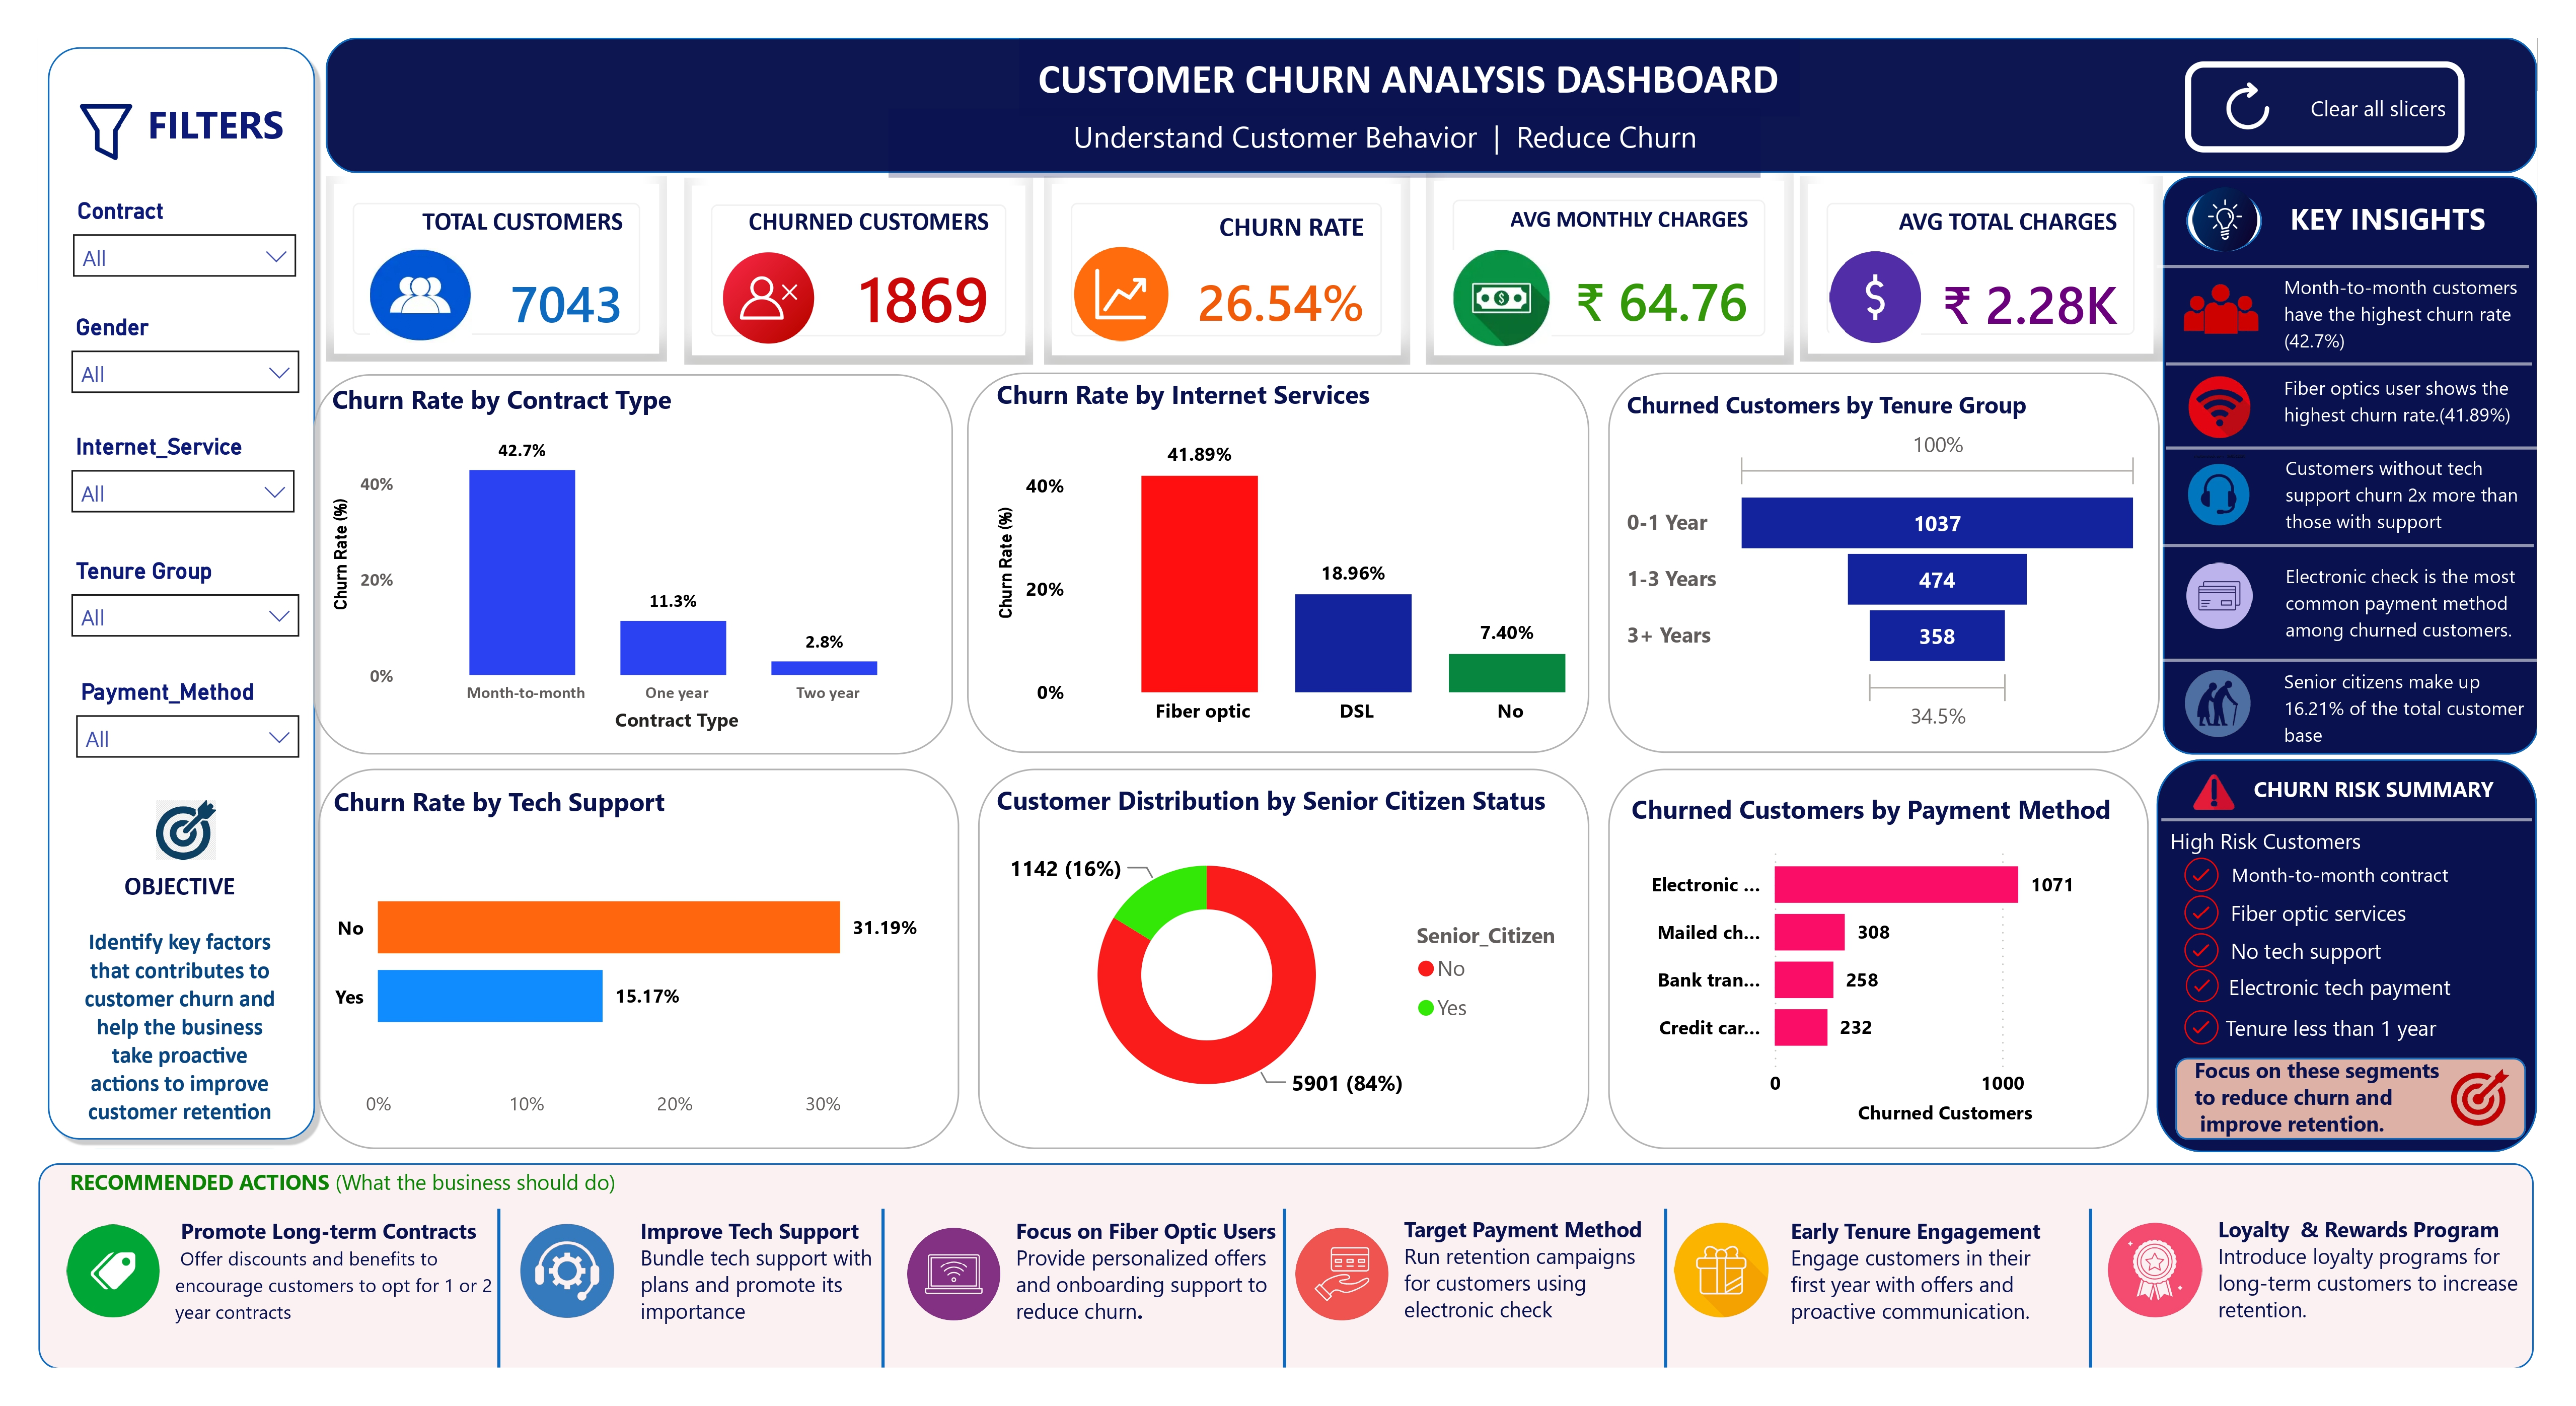

The page's visual inventory and layout, read from the dashboard file:
{"tool":"powerbi","page":{"name":"Page 1","canvas":[1590,846],"ordinal":0},"visuals":[{"type":"shape","box":[182.7,0,1407.6,86.2],"z":0},{"type":"cardVisual","title":"CARD TC","fields":{"Data":["customer_churn.TOTAL CUSTOMERS"]},"box":[182.7,87.7,217.8,118.4],"z":1000},{"type":"shape","box":[20.6,483,144.1,223.7],"z":2000},{"type":"image","title":"IMAGE TC","box":[209,134.5,68.7,59.9],"z":3000},{"type":"shape","box":[0,0,182,707],"z":4000},{"type":"cardVisual","title":"CARD CC","fields":{"Data":["customer_churn.Churned Customers"]},"box":[410.7,89.2,222.2,118.4],"z":5000},{"type":"image","title":"CC IMAGE","box":[429.7,134.5,68.7,62.9],"z":6000},{"type":"cardVisual","title":"CHURN RATE CARD","fields":{"Data":["customer_churn.Churn Rate"]},"box":[640.2,87.7,232.4,119.9],"z":7000},{"type":"image","title":"CHURN RATE IMAGE ","box":[653.4,133,70.2,59.9],"z":8000},{"type":"textbox","box":[17.8,32.9,144.1,53.5],"z":9000},{"type":"cardVisual","title":"AMC CARD","fields":{"Data":["customer_churn.Avg Monthly Charges"]},"box":[882.8,86.2,233.9,121.3],"z":10000},{"type":"image","title":"Amc IMAGE","box":[900.4,133,62.9,65.8],"z":11000},{"type":"cardVisual","title":"ATC CARD","fields":{"Data":["customer_churn.AVG Total Charges"]},"box":[1121.1,87.7,230.9,118.4],"z":12000},{"type":"textbox","box":[19.4,525,141.7,185],"z":13000},{"type":"image","title":"ATC IMAGE","box":[1137.2,135.9,64.3,58.5],"z":14000},{"type":"image","title":"IMAGE OBJECTIVE","box":[74.6,475.8,38.8,56.7],"z":15000},{"type":"image","title":"FILTER IMAGE","box":[20,31.4,45.6,55.6],"z":16000},{"type":"textbox","box":[624.1,0,497,49.7],"z":17000},{"type":"textbox","box":[540.8,45.3,555.4,43.8],"z":18000},{"type":"slicer","fields":{"Values":["customer_churn.Tenure_Group"]},"box":[15.1,325.2,156.4,70],"z":19000},{"type":"slicer","fields":{"Values":["customer_churn.Payment_Method"]},"box":[17.8,402.1,153.7,63.1],"z":20000},{"type":"slicer","fields":{"Values":["customer_churn.Contract"]},"box":[16.5,96.1,153.7,75.5],"z":21000},{"type":"slicer","fields":{"Values":["customer_churn.Gender"]},"box":[15.1,170.2,156.4,75.5],"z":22000},{"type":"slicer","fields":{"Values":["customer_churn.Internet_Service"]},"box":[15.1,245.6,153.7,65.9],"z":23000},{"type":"clusteredColumnChart","title":"Churn Rate by Contract Type","fields":{"Y":["customer_churn.CHURN RATE"],"Category":["customer_churn.Contract"]},"box":[183.2,214.3,394,231.6],"z":24000},{"type":"columnChart","title":"Churn Rate by Internet Services","fields":{"Y":["customer_churn.CHURN RATE"],"Category":["customer_churn.Internet_Service"]},"box":[604.9,216,414.8,229.9],"z":25000},{"type":"funnel","title":"Churned Customers by Tenure Group","fields":{"Category":["customer_churn.Tenure Group"],"Y":["customer_churn.CHURNED CUSTOMERS"]},"box":[1005.8,216,337,229.9],"z":26000},{"type":"clusteredBarChart","title":"Churned Customers by Payment Method","fields":{"Category":["customer_churn.Payment_Method"],"Y":["customer_churn.CHURNED CUSTOMERS"]},"box":[1009.3,480.5,331.8,216],"z":27000},{"type":"clusteredBarChart","title":"Churn Rate by Tech Support","fields":{"Y":["customer_churn.CHURN RATE"],"Category":["customer_churn.Tech_Support"]},"box":[183.2,475.3,394,221.2],"z":28000},{"type":"donutChart","title":"Customer Distribution by Senior Citizen Status","fields":{"Y":["customer_churn.TOTAL CUSTOMERS"],"Category":["customer_churn.Senior_Citizen"]},"box":[604.9,473.5,381.9,222.9],"z":29000},{"type":"shape","title":"ks full rect shape","box":[1352,87.7,238.2,368],"z":30000,"group":"g2"},{"type":"shape","title":"RA shape","box":[0,715.5,1588.3,131.3],"z":30000},{"type":"textbox","title":"ks shape","box":[1363.7,96.5,214.9,51.2],"z":31000,"group":"g2"},{"type":"group","id":"g1","title":"Group 1","box":[1348.4,459.4,241.6,250.6],"z":31000},{"type":"group","id":"g2","title":"Group 2","box":[1347.6,87.7,242.6,375.6],"z":32000},{"type":"shape","title":"idea shape","box":[1366.6,96.5,48.2,39.5],"z":32000,"group":"g2"},{"type":"image","title":"idea image","box":[1362.2,95,57,40.9],"z":33000,"group":"g2"},{"type":"textbox","box":[14.9,714.5,372.9,35.8],"z":33000},{"type":"shape","title":"ks line 1","box":[1347.6,127.2,236.8,36.5],"z":34000,"group":"g2"},{"type":"textbox","box":[42.4,745.4,261.6,90.6],"z":34000},{"type":"textbox","title":"mtm text box ks","box":[1423.6,143.2,166.6,64.3],"z":35000,"group":"g2"},{"type":"textbox","box":[298.2,745.4,242.6,90.6],"z":35000},{"type":"shape","title":"ks line 2","box":[1353.2,153.8,233.3,107.2],"z":36000,"group":"g2"},{"type":"textbox","box":[577.4,745.4,222.2,86.2],"z":36000},{"type":"textbox","title":"wifi text box","box":[1423.6,207.6,166.6,54.1],"z":37000,"group":"g2"},{"type":"textbox","box":[1341.8,744,248.5,87.7],"z":37000},{"type":"shape","title":"ks line 3","box":[1353.4,242.6,236.8,36.5],"z":38000,"group":"g2"},{"type":"textbox","box":[824.4,744,216.3,86.2],"z":38000},{"type":"textbox","title":"earphone text box","box":[1425.1,258.7,165.2,62.9],"z":39000,"group":"g2"},{"type":"textbox","box":[1069.9,745.4,220.7,89.2],"z":39000},{"type":"shape","title":"ks line 4","box":[1350.5,304,236.8,38],"z":40000,"group":"g2"},{"type":"shape","box":[277.7,745.4,30.7,100.9],"z":40000},{"type":"textbox","title":"electronic check text box","box":[1425.1,327.4,165.2,64.3],"z":41000,"group":"g2"},{"type":"shape","box":[521.8,745.4,30.7,100.9],"z":41000},{"type":"shape","title":"ks line 5","box":[1352,377.1,238.2,38],"z":42000,"group":"g2"},{"type":"shape","box":[777.6,745.4,30.7,100.9],"z":42000},{"type":"textbox","title":"senior citizen text box","box":[1423.6,394.6,163.7,68.7],"z":43000,"group":"g2"},{"type":"shape","box":[1020.2,745.4,30.7,100.9],"z":43000},{"type":"shape","title":"crs shape","box":[1348.4,459.4,242.3,250],"z":44000,"group":"g1"},{"type":"shape","box":[1290.6,745.4,30.7,100.9],"z":44000},{"type":"image","title":"Danger sign","box":[1355.7,463.6,58.4,33.7],"z":45000,"group":"g1"},{"type":"image","box":[17.5,754.2,59.9,59.9],"z":45000},{"type":"shape","title":"CRS LINE","box":[1351.3,480.5,236.5,35.1],"z":46000,"group":"g1"},{"type":"image","box":[292.3,745.4,89.2,78.9],"z":46000},{"type":"textbox","title":"crs text box","box":[1405.8,464.7,170.9,33.2],"z":47000,"group":"g1"},{"type":"image","box":[552.5,755.7,59.9,59.9],"z":47000},{"type":"image","title":"earphone image","box":[1365.1,267.5,43.8,43.8],"z":48000,"group":"g2"},{"type":"image","box":[799.5,755.7,59.9,59.9],"z":48000},{"type":"image","title":"wifi image","box":[1352,206.1,71.6,61.4],"z":49000,"group":"g2"},{"type":"image","box":[1040.7,754.2,59.9,59.9],"z":49000},{"type":"image","title":"mtm ks image","box":[1363.7,149.1,49.7,45.3],"z":50000,"group":"g2"},{"type":"image","box":[1316.9,754.2,59.9,59.9],"z":50000},{"type":"shape","box":[174.6,214.3,407.9,242],"z":51000},{"type":"image","title":"electronic check image","box":[1366.6,333.3,42.4,42.4],"z":51000,"group":"g2"},{"type":"shape","box":[591.1,212.6,395.8,242],"z":52000},{"type":"image","title":"senior citizen image","box":[1365.1,402,42.4,42.4],"z":52000,"group":"g2"},{"type":"shape","box":[998.9,212.6,350.8,242],"z":53000},{"type":"textbox","title":"HRC text box","box":[1348.4,497.3,148.9,30.9],"z":53000,"group":"g1"},{"type":"shape","box":[178,464.9,407.9,242],"z":54000},{"type":"textbox","title":"mtmc text box","box":[1358.6,518.4,223.3,28.1],"z":54000,"group":"g1"},{"type":"shape","box":[598,464.9,388.9,242],"z":55000},{"type":"image","title":"tick image 2","box":[1363,539.5,27.7,33.7],"z":55000,"group":"g1"},{"type":"shape","box":[998.9,464.9,343.9,242],"z":56000},{"type":"image","title":"tick image 1","box":[1363,515.6,27.7,33.7],"z":56000,"group":"g1"},{"type":"actionButton","box":[1366.3,14.9,177.5,58.2],"z":57000},{"type":"image","title":"tick image 3","box":[1363,563.3,27.7,33.7],"z":57000,"group":"g1"},{"type":"image","box":[1382.7,20.9,46.2,47.7],"z":58000},{"type":"textbox","title":"fos text box","box":[1390.7,543.7,127,29.5],"z":58000,"group":"g1"},{"type":"textbox","title":"nts text box","box":[1390.7,567.5,127,29.5],"z":59000,"group":"g1"},{"type":"image","title":"tick image 4","box":[1363,590,27.7,26.7],"z":60000,"group":"g1"},{"type":"textbox","title":"etp text box","box":[1389.3,590,159.1,29.5],"z":61000,"group":"g1"},{"type":"textbox","title":"tlt1y text box","box":[1387.8,616.7,166.4,29.5],"z":62000,"group":"g1"},{"type":"image","title":"tick image 5","box":[1363,616.7,27.7,26.7],"z":63000,"group":"g1"},{"type":"shape","title":"focus shape","box":[1360.1,649,223.3,52.8],"z":64000,"group":"g1"},{"type":"textbox","title":"focus text box ","box":[1367.4,643.4,208.7,63.2],"z":65000,"group":"g1"},{"type":"image","title":"focus image","box":[1529.4,654.6,49.6,40.7],"z":66000,"group":"g1"}]}

Visuals, with their boxes in screenshot pixels (x1, y1, x2, y2):
shape: select_region(362, 27, 2531, 160)
"CARD TC" cardVisual: select_region(362, 162, 698, 344)
shape: select_region(112, 771, 334, 1116)
"IMAGE TC" image: select_region(403, 234, 508, 326)
shape: select_region(81, 27, 361, 1117)
"CARD CC" cardVisual: select_region(713, 164, 1056, 347)
"CC IMAGE" image: select_region(743, 234, 849, 331)
"CHURN RATE CARD" cardVisual: select_region(1067, 162, 1425, 347)
"CHURN RATE IMAGE " image: select_region(1087, 232, 1196, 324)
textbox: select_region(108, 78, 330, 160)
"AMC CARD" cardVisual: select_region(1441, 160, 1801, 347)
"Amc IMAGE" image: select_region(1468, 232, 1565, 333)
"ATC CARD" cardVisual: select_region(1808, 162, 2164, 344)
textbox: select_region(110, 836, 329, 1121)
"ATC IMAGE" image: select_region(1833, 236, 1932, 326)
"IMAGE OBJECTIVE" image: select_region(195, 760, 255, 848)
"FILTER IMAGE" image: select_region(111, 75, 182, 161)
textbox: select_region(1042, 27, 1808, 103)
textbox: select_region(914, 97, 1770, 164)
slicer - customer_churn.Tenure_Group: select_region(104, 528, 345, 636)
slicer - customer_churn.Payment_Method: select_region(108, 647, 345, 744)
slicer - customer_churn.Contract: select_region(106, 175, 343, 292)
slicer - customer_churn.Gender: select_region(104, 289, 345, 405)
slicer - customer_churn.Internet_Service: select_region(104, 405, 341, 507)
"Churn Rate by Contract Type" clusteredColumnChart: select_region(363, 357, 970, 714)
"Churn Rate by Internet Services" columnChart: select_region(1013, 360, 1652, 714)
"Churned Customers by Tenure Group" funnel: select_region(1631, 360, 2150, 714)
"Churned Customers by Payment Method" clusteredBarChart: select_region(1636, 767, 2147, 1100)
"Churn Rate by Tech Support" clusteredBarChart: select_region(363, 759, 970, 1100)
"Customer Distribution by Senior Citizen Status" donutChart: select_region(1013, 757, 1601, 1100)
"ks full rect shape" shape: select_region(2164, 162, 2531, 729)
"RA shape" shape: select_region(81, 1130, 2528, 1332)
"ks shape" textbox: select_region(2182, 176, 2513, 254)
"Group 1" group: select_region(2159, 735, 2531, 1121)
"Group 2" group: select_region(2157, 162, 2531, 741)
"idea shape" shape: select_region(2186, 176, 2261, 237)
"idea image" image: select_region(2180, 173, 2267, 236)
textbox: select_region(104, 1129, 678, 1183)
"ks line 1" shape: select_region(2157, 223, 2522, 279)
textbox: select_region(146, 1176, 549, 1315)
"mtm text box ks" textbox: select_region(2274, 248, 2531, 347)
textbox: select_region(540, 1176, 914, 1315)
"ks line 2" shape: select_region(2166, 264, 2526, 429)
textbox: select_region(970, 1176, 1313, 1309)
"wifi text box" textbox: select_region(2274, 347, 2531, 430)
textbox: select_region(2148, 1174, 2531, 1309)
"ks line 3" shape: select_region(2166, 401, 2531, 457)
textbox: select_region(1351, 1174, 1684, 1307)
"earphone text box" textbox: select_region(2276, 426, 2531, 523)
textbox: select_region(1729, 1176, 2070, 1313)
"ks line 4" shape: select_region(2162, 496, 2527, 554)
shape: select_region(508, 1176, 556, 1331)
"electronic check text box" textbox: select_region(2276, 532, 2531, 630)
shape: select_region(885, 1176, 932, 1331)
"ks line 5" shape: select_region(2164, 608, 2531, 667)
shape: select_region(1279, 1176, 1326, 1331)
"senior citizen text box" textbox: select_region(2274, 635, 2527, 741)
shape: select_region(1653, 1176, 1700, 1331)
"crs shape" shape: select_region(2159, 735, 2532, 1120)
shape: select_region(2070, 1176, 2117, 1331)
"Danger sign" image: select_region(2170, 741, 2260, 794)
image: select_region(107, 1189, 200, 1282)
"CRS LINE" shape: select_region(2163, 767, 2528, 822)
image: select_region(531, 1176, 669, 1298)
"crs text box" textbox: select_region(2247, 743, 2511, 794)
image: select_region(932, 1192, 1024, 1284)
"earphone image" image: select_region(2184, 439, 2252, 507)
image: select_region(1312, 1192, 1405, 1284)
"wifi image" image: select_region(2164, 344, 2274, 439)
image: select_region(1684, 1189, 1777, 1282)
"mtm ks image" image: select_region(2182, 257, 2259, 326)
image: select_region(2110, 1189, 2202, 1282)
shape: select_region(349, 357, 978, 730)
"electronic check image" image: select_region(2186, 541, 2252, 606)
shape: select_region(991, 355, 1601, 728)
"senior citizen image" image: select_region(2184, 647, 2250, 712)
shape: select_region(1620, 355, 2161, 728)
"HRC text box" textbox: select_region(2159, 794, 2388, 841)
shape: select_region(355, 743, 983, 1116)
"mtmc text box" textbox: select_region(2174, 826, 2518, 869)
shape: select_region(1002, 743, 1601, 1116)
"tick image 2" image: select_region(2181, 859, 2224, 910)
shape: select_region(1620, 743, 2150, 1116)
"tick image 1" image: select_region(2181, 822, 2224, 874)
actionButton: select_region(2186, 50, 2460, 139)
"tick image 3" image: select_region(2181, 895, 2224, 947)
image: select_region(2212, 59, 2283, 132)
"fos text box" textbox: select_region(2224, 865, 2419, 910)
"nts text box" textbox: select_region(2224, 902, 2419, 947)
"tick image 4" image: select_region(2181, 936, 2224, 977)
"etp text box" textbox: select_region(2222, 936, 2467, 982)
"tlt1y text box" textbox: select_region(2219, 977, 2476, 1023)
"tick image 5" image: select_region(2181, 977, 2224, 1019)
"focus shape" shape: select_region(2177, 1027, 2521, 1109)
"focus text box " textbox: select_region(2188, 1019, 2510, 1116)
"focus image" image: select_region(2438, 1036, 2514, 1099)
